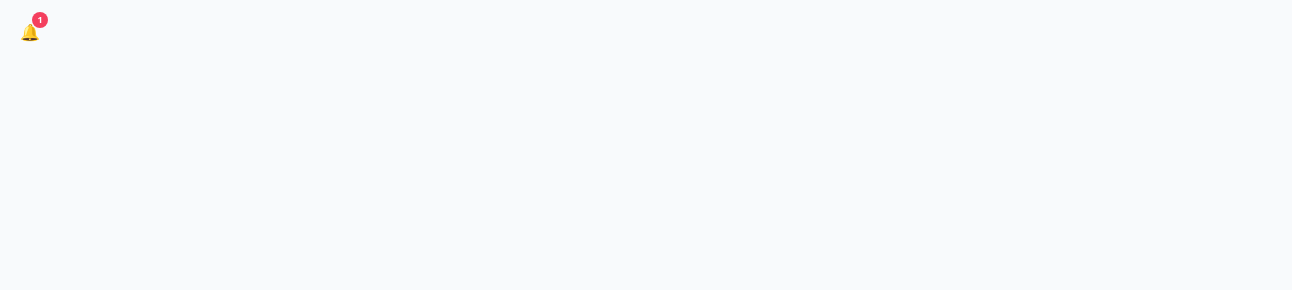
Scenario: NotificationBell Component › opens notification dropdown on bell click
The image size is (1292, 290).
What coordinates should you click on to do the following:
click the button with test id "notification-bell"
I would click on:
 (30, 32)
Its box is [12,12,48,52].
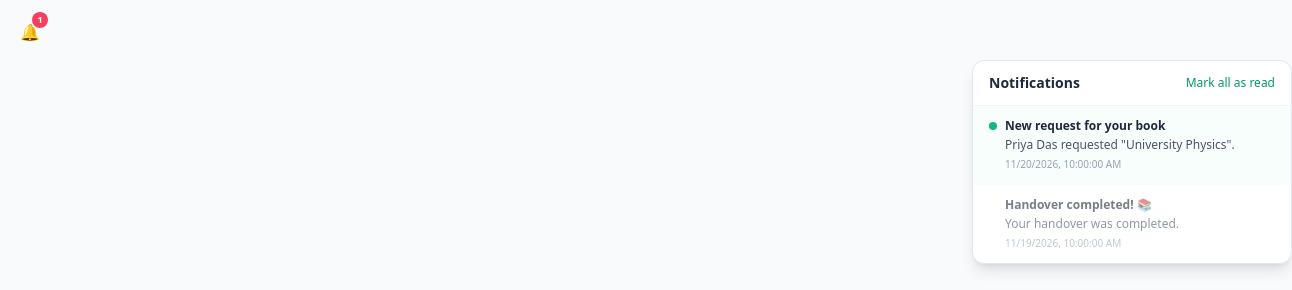
Result: the element with test id "notification-dropdown" is shown at [972,60,1291,264]
Result: the text "New request for your book" is shown at [1005,117,1165,134]
Result: the text "Handover completed! 📚" is shown at [1005,196,1152,213]
